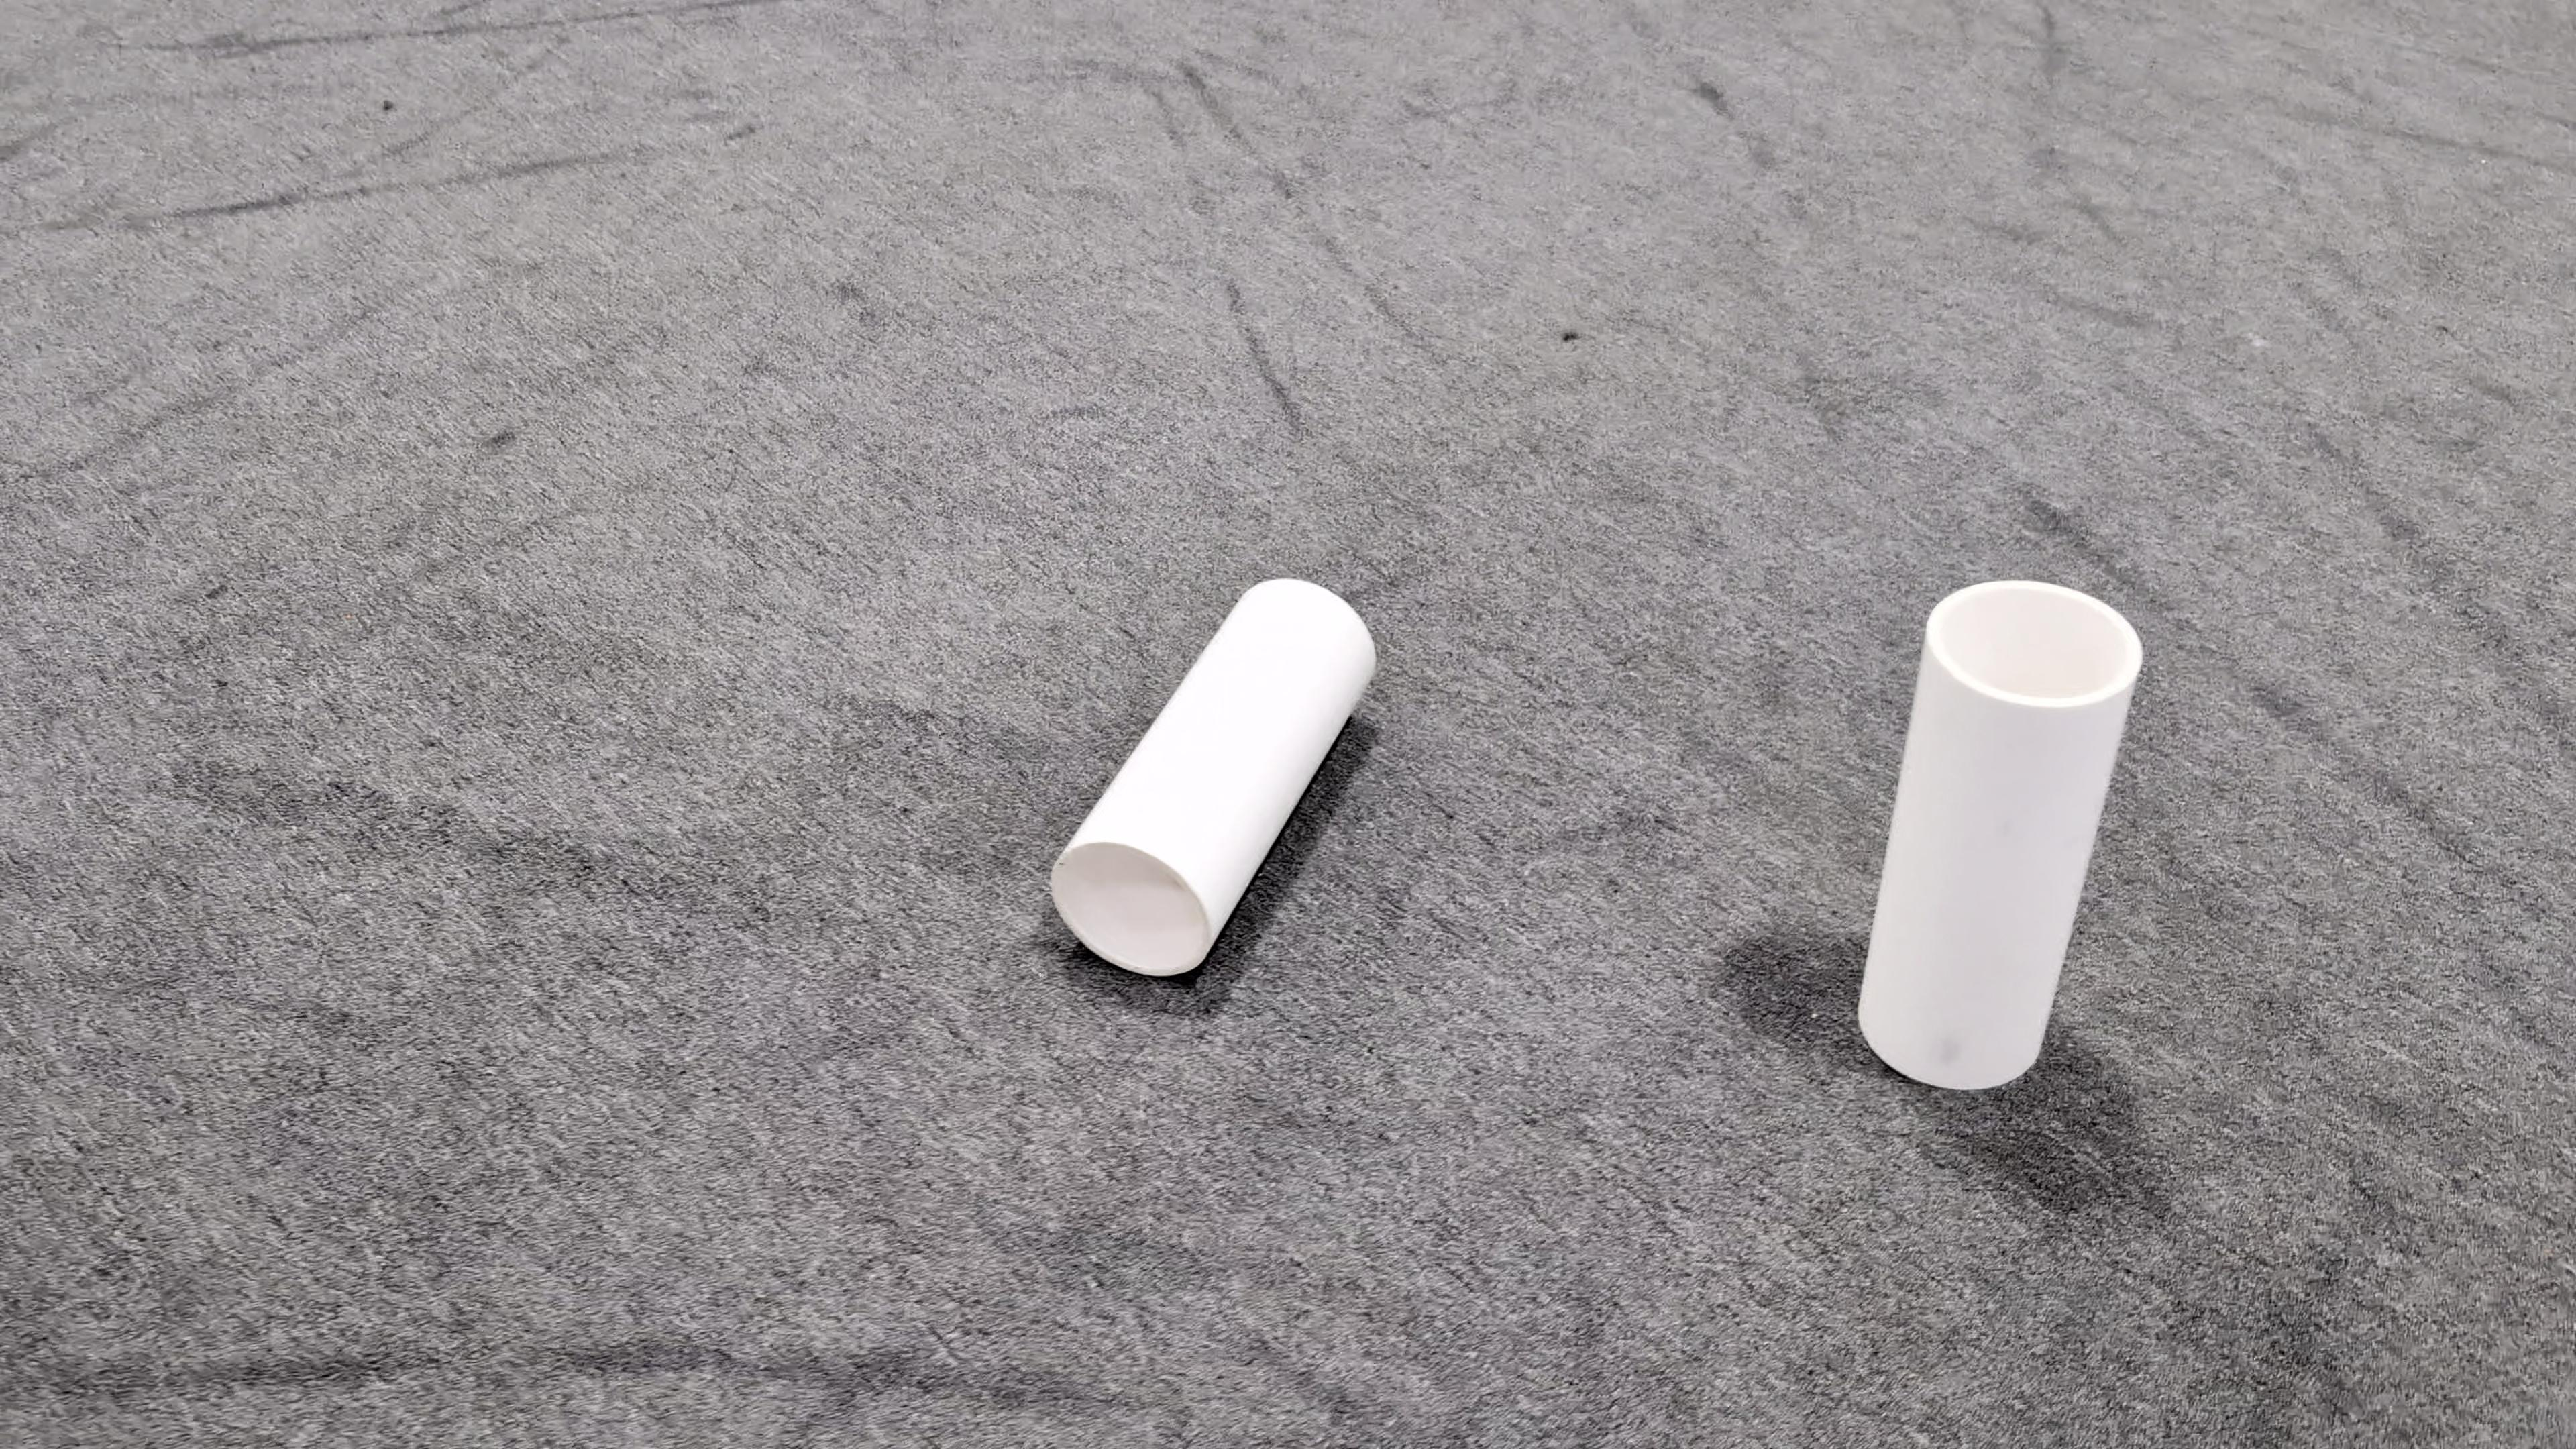coral: (1854, 580, 2144, 1092), (1047, 575, 1380, 978)
